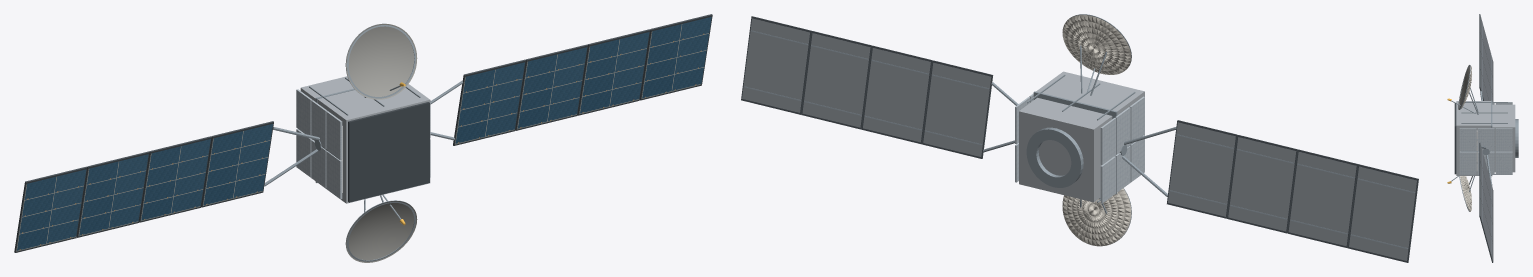
The model's file is astra-601hp.glb.
3 views of the same model, side by side, from view 1: azimuth 30°, elevation 25°; view 2: azimuth 150°, elevation 25°; view 3: azimuth 270°, elevation 25° (orthographic). The views are drawn at different scales.
Visible parts, largest first — view 1: Solar cell panel (×8), Earth-facing deck, Solar panel frame (×8), Reflector 2 face, Radiator bay (×6), Reflector 1 face, Payload module, Service module, Reflector 2 edge, Reflector 1 edge; view 2: Rear array substrate (×8), Service module, Solar panel frame (×8), Radiator bay (×6), Reflector 2 insulated back, Reflector 1 insulated back, Payload module, Launch adapter ring, Module interface; view 3: Radiator bay (×6), Rear array substrate (×8), Payload module, Service module, Solar panel frame (×3), Reflector 1 insulated back, Reflector 2 face, Earth-facing deck, Launch adapter ring, Reflector 2 edge, Reflector 2 insulated back, Blanket closeout seam (+3 smaller).
Part boxes in pixels (<box>): Solar cell panel (×8): <box>16,17,711,251</box>; Earth-facing deck: <box>348,102,429,202</box>; Solar panel frame (×8): <box>14,14,712,252</box>; Reflector 2 face: <box>346,24,417,99</box>; Radiator bay (×6): <box>296,89,342,199</box>; Reflector 1 face: <box>346,201,417,262</box>; Payload module: <box>317,84,430,203</box>; Service module: <box>300,76,353,139</box>; Reflector 2 edge: <box>345,23,415,98</box>; Reflector 1 edge: <box>345,200,415,261</box>; Rear array substrate (×8): <box>742,18,1416,260</box>; Service module: <box>1019,97,1112,202</box>; Solar panel frame (×8): <box>741,16,1418,262</box>; Radiator bay (×6): <box>1100,96,1144,203</box>; Reflector 2 insulated back: <box>1062,15,1131,74</box>; Reflector 1 insulated back: <box>1062,188,1131,246</box>; Payload module: <box>1036,71,1144,135</box>; Launch adapter ring: <box>1026,127,1083,187</box>; Module interface: <box>1033,91,1117,194</box>; Radiator bay (×6): <box>1459,128,1512,174</box>; Rear array substrate (×8): <box>1480,15,1492,260</box>; Payload module: <box>1456,101,1490,175</box>; Service module: <box>1492,104,1515,172</box>; Solar panel frame (×3): <box>1479,32,1493,262</box>; Reflector 1 insulated back: <box>1460,176,1471,211</box>; Reflector 2 face: <box>1458,65,1470,109</box>; Earth-facing deck: <box>1454,103,1456,174</box>; Launch adapter ring: <box>1515,119,1518,157</box>; Reflector 2 edge: <box>1458,65,1470,109</box>; Reflector 2 insulated back: <box>1460,65,1471,109</box>; Blanket closeout seam: <box>1461,112,1507,113</box>.
Size of the model in its own units: 26.18 by 8.63 by 3.9.
10 materials, 2 textured.
